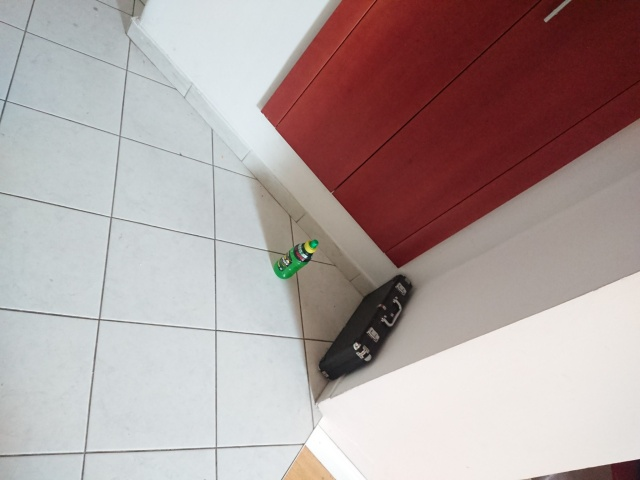Vindi Iso Sport Lemon-Grapefruit 500mL: (271, 237, 320, 281)
